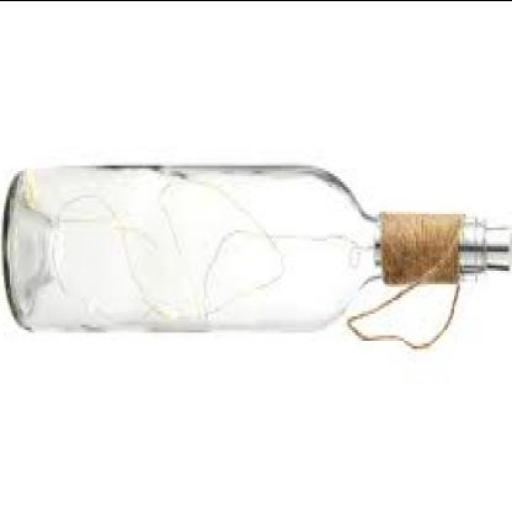glass: (8, 164, 488, 337)
metal: (460, 222, 511, 280)
